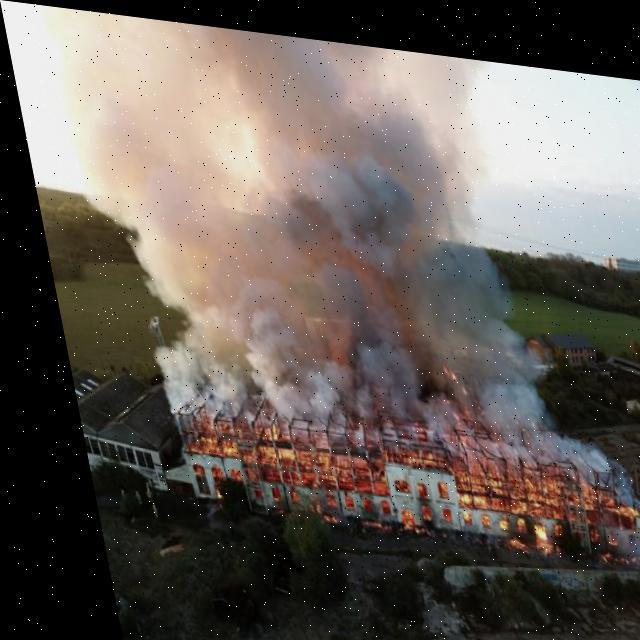Fire: (133, 356, 632, 553)
